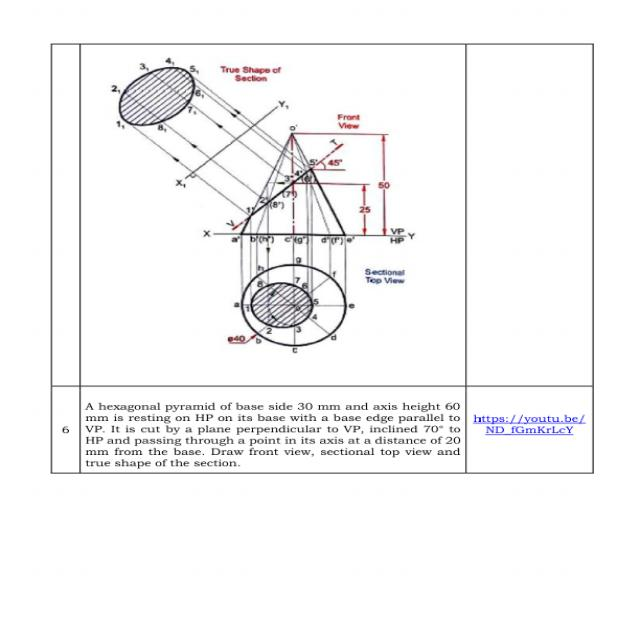Drawings: (103, 52, 426, 358)
